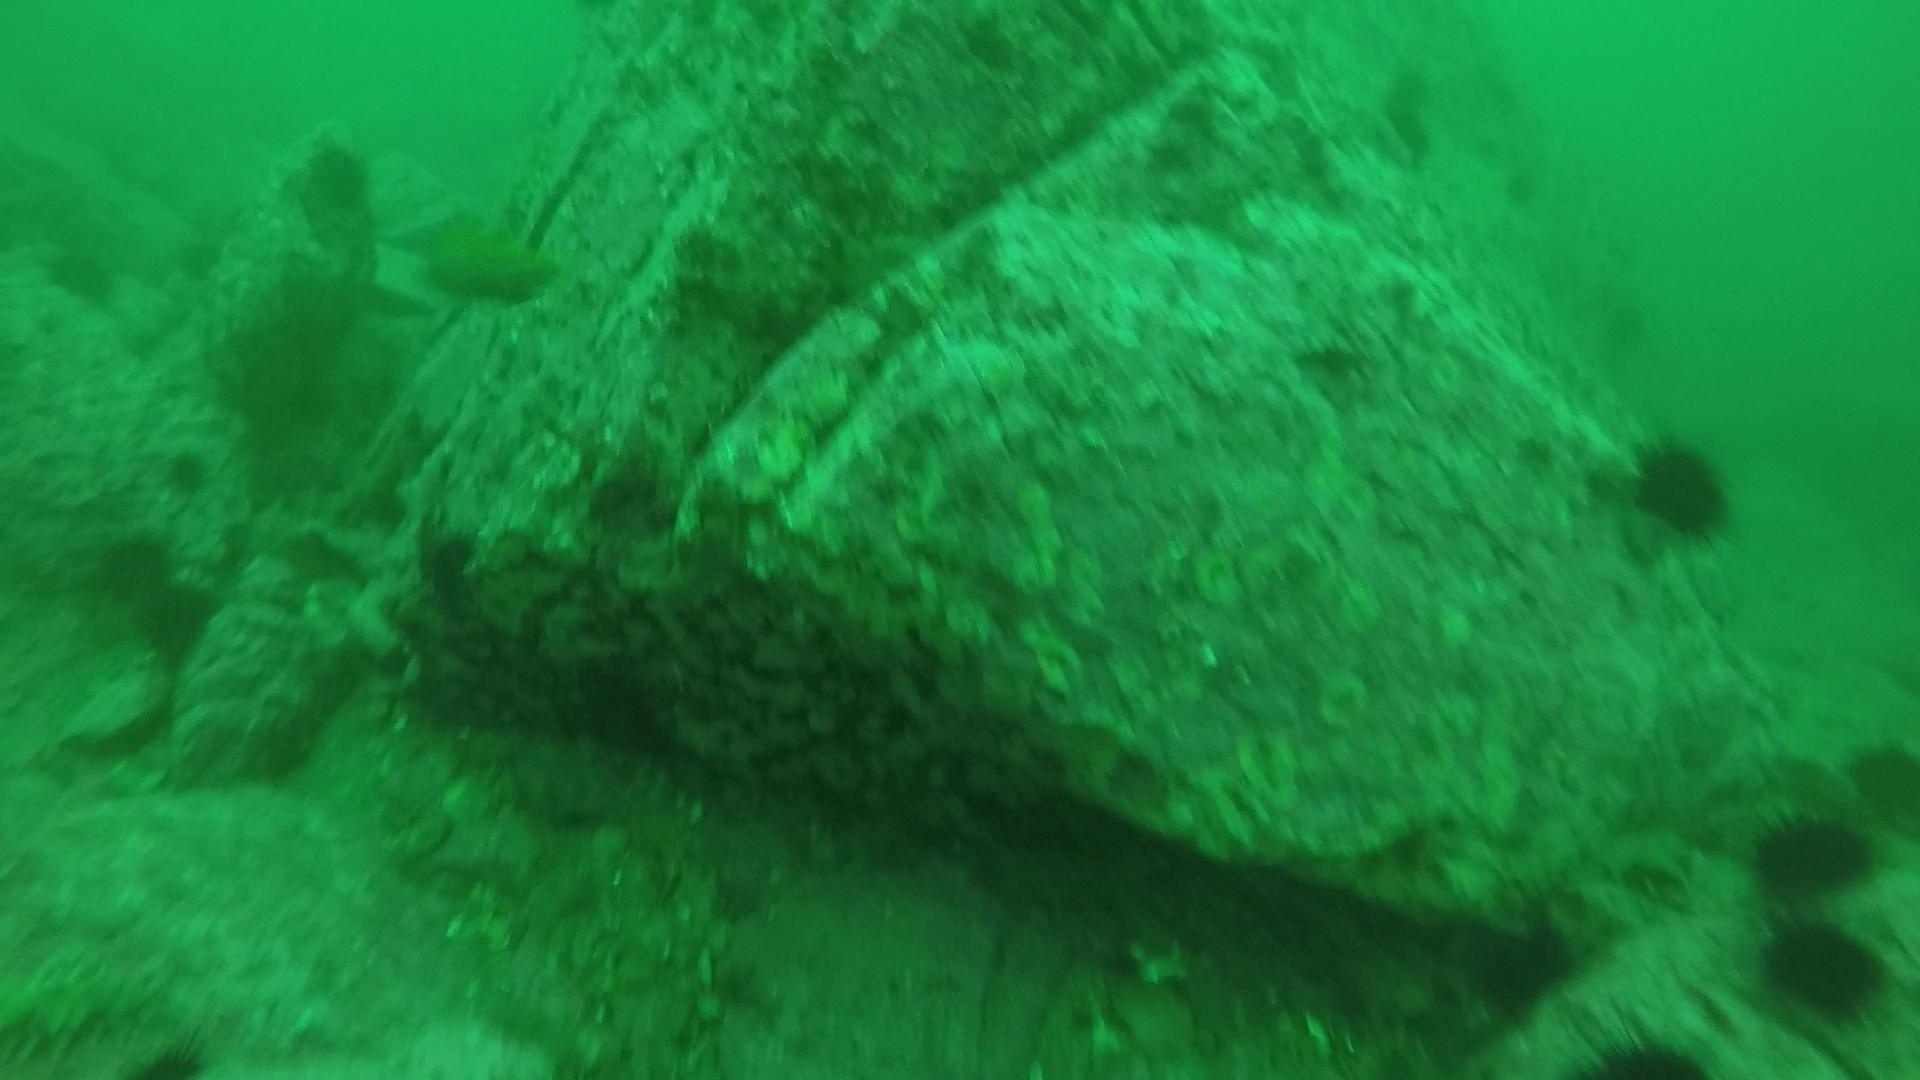echinus: (1753, 910, 1892, 1023), (1623, 430, 1739, 547), (1745, 804, 1880, 902), (1465, 910, 1581, 1019), (129, 574, 224, 669), (87, 525, 182, 607), (1841, 733, 1919, 829), (40, 237, 123, 309)
starfish: (389, 200, 567, 309)
